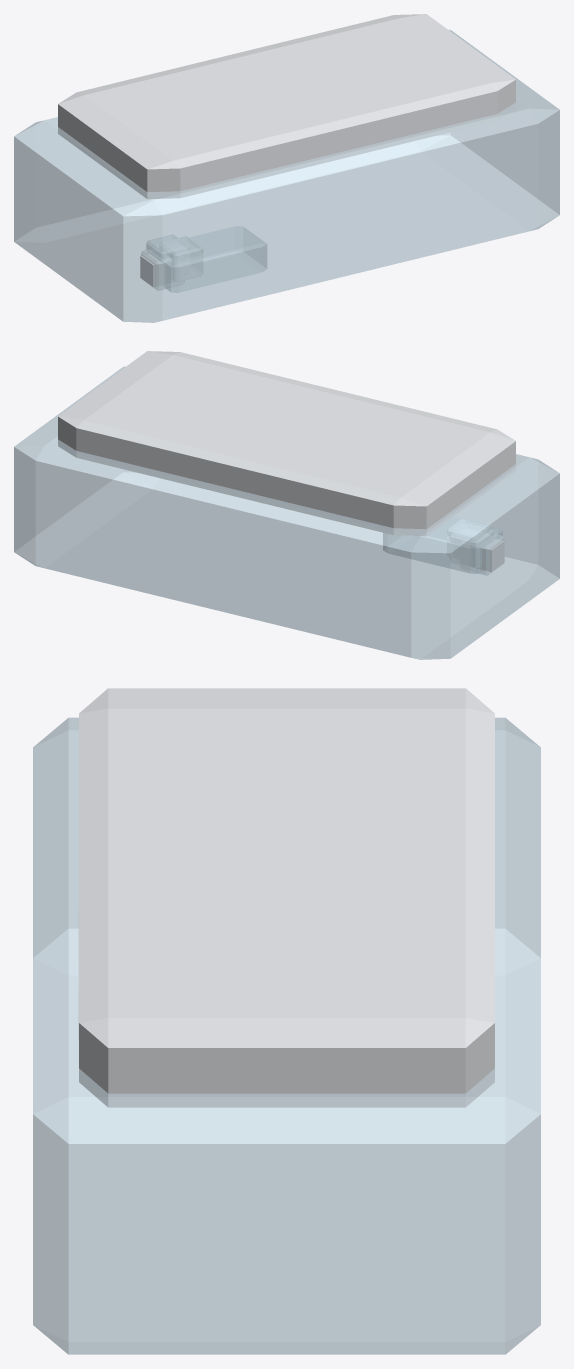
The model's file is b17_folded_sunglasses.glb.
3 views of the same model, one above another, from view 1: azimuth 30°, elevation 25°; view 2: azimuth 150°, elevation 25°; view 3: azimuth 270°, elevation 25° (orthographic). The views are drawn at different scales.
Parts seen in each view (by area): view 1: b17_folded_sunglasses; view 2: b17_folded_sunglasses; view 3: b17_folded_sunglasses.
Boxes of the visible parts, x1=… form: b17_folded_sunglasses: x1=14, y1=14, x2=559, y2=322; b17_folded_sunglasses: x1=14, y1=351, x2=559, y2=659; b17_folded_sunglasses: x1=33, y1=688, x2=540, y2=1354.
Bounding box in the file's own units: 0.133 × 0.043 × 0.067.
